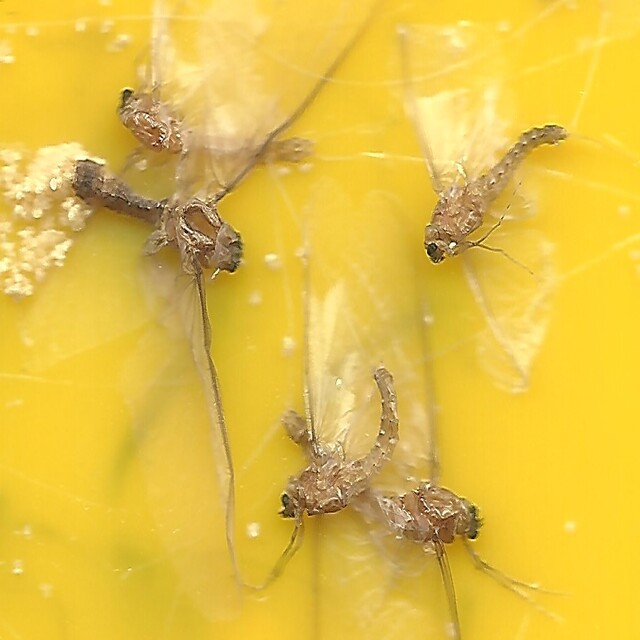Ephemeroptera: (284, 408, 481, 549), (420, 119, 571, 269), (69, 157, 245, 282), (279, 365, 404, 522), (116, 91, 315, 171)
